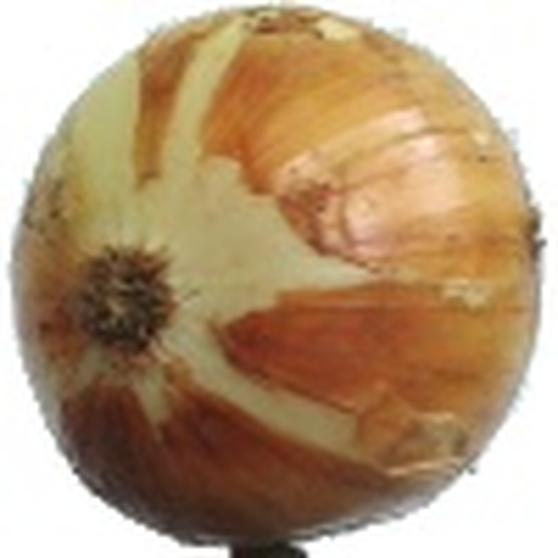onion: (18, 3, 544, 558)
